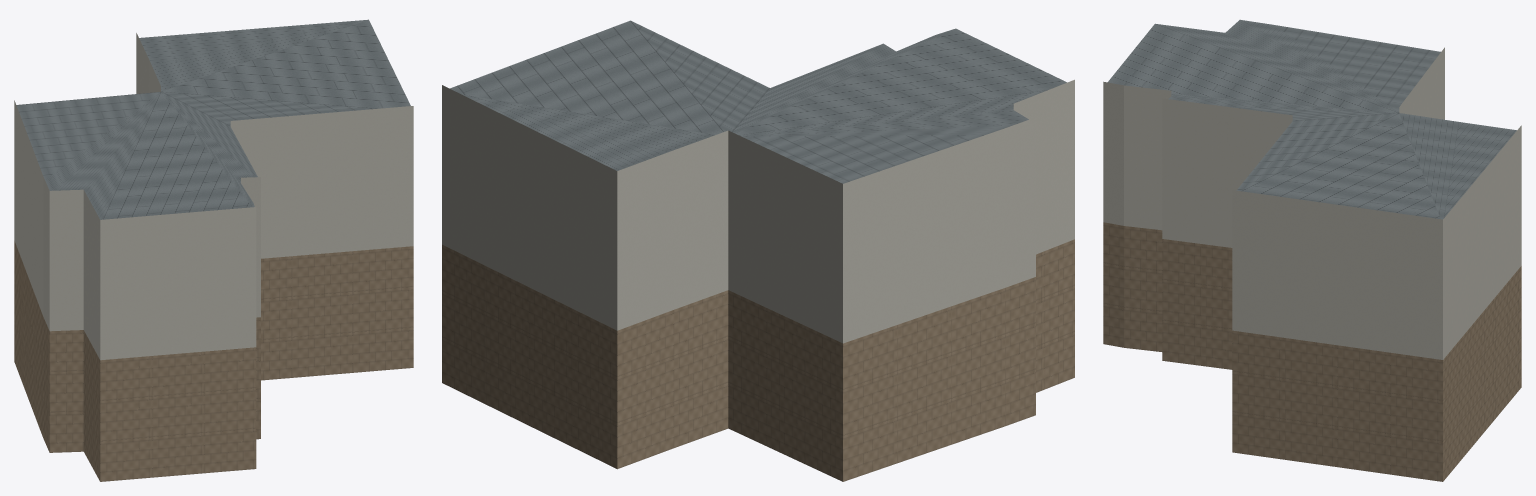
The model's file is bld_c11_28_393.gltf.
3 renders of one model, left to right at view 1: azimuth 30°, elevation 25°; view 2: azimuth 150°, elevation 25°; view 3: azimuth 270°, elevation 25°, orthographic. The views are drawn at different scales.
Parts seen in each view (by area): view 1: bld_c11_28_393; view 2: bld_c11_28_393; view 3: bld_c11_28_393.
Boxes of the visible parts, bbox=[...] form: bld_c11_28_393: bbox=[14, 19, 413, 481]; bld_c11_28_393: bbox=[442, 20, 1074, 481]; bld_c11_28_393: bbox=[1103, 19, 1521, 481].
Size of the model in its own units: 18.45 by 10.98 by 15.86.
Materials: 4 (4 with a texture image).
